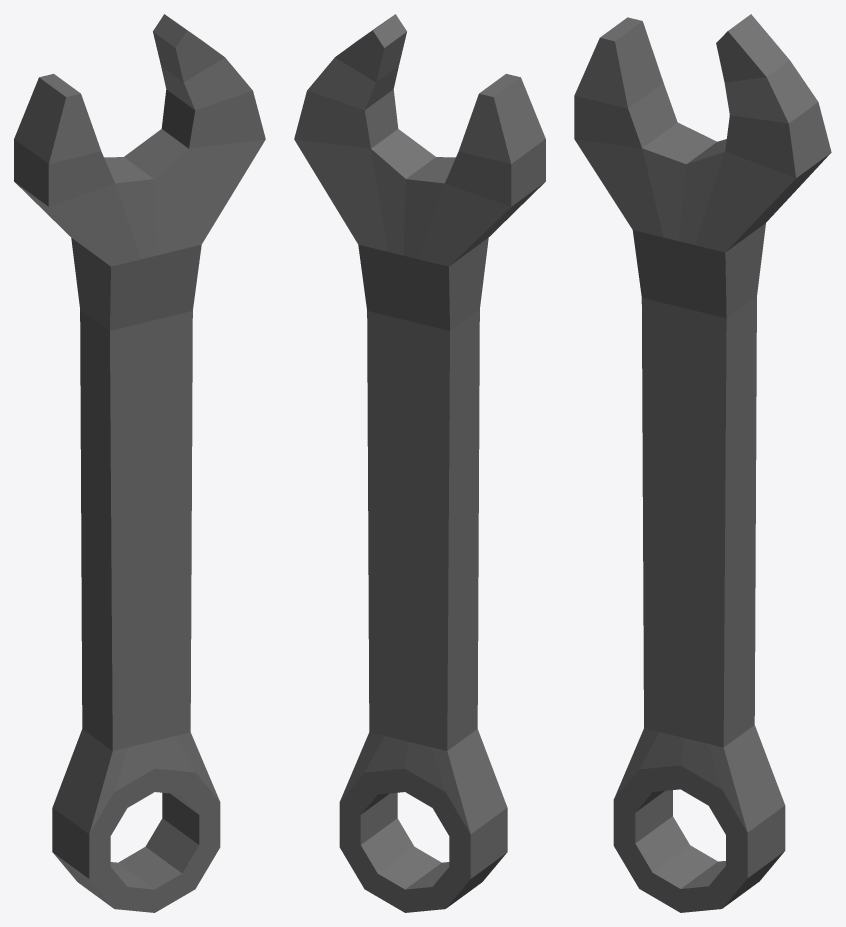
File: Wrench.fbx
3 views of the same model, side by side, from view 1: azimuth 30°, elevation 25°; view 2: azimuth 150°, elevation 25°; view 3: azimuth 330°, elevation 25° (orthographic). The views are drawn at different scales.
Visible parts, largest first — view 1: Wrench; view 2: Wrench; view 3: Wrench.
Part boxes in pixels (box(x1,y1,x2,y2)): Wrench: box(14, 14, 265, 912); Wrench: box(294, 14, 545, 912); Wrench: box(574, 14, 831, 912).
Size of the model in its own units: 0.0775 by 0.2961 by 0.0246.
